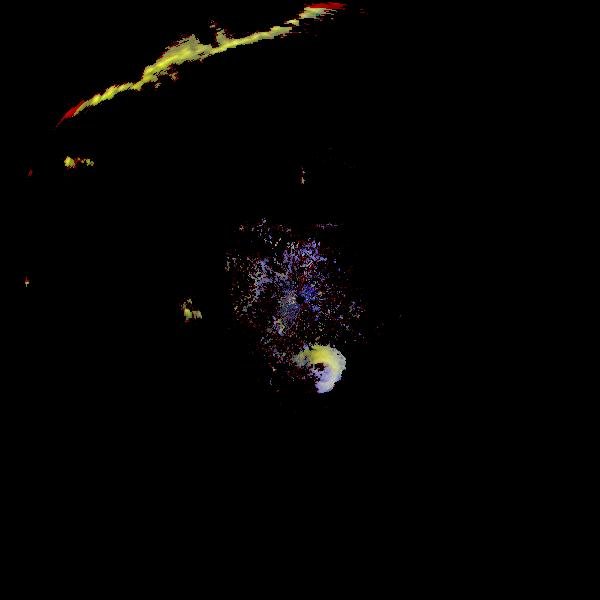roost: (273, 331, 357, 415), (251, 143, 314, 206)
